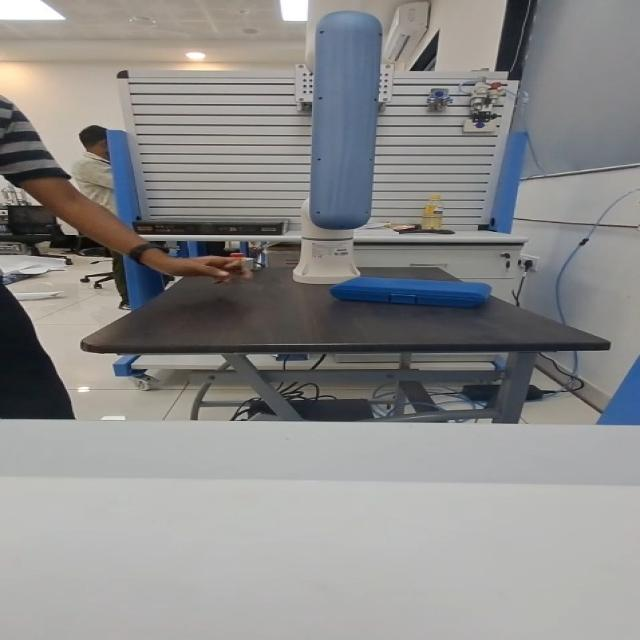top-surface: (353, 279, 475, 290)
